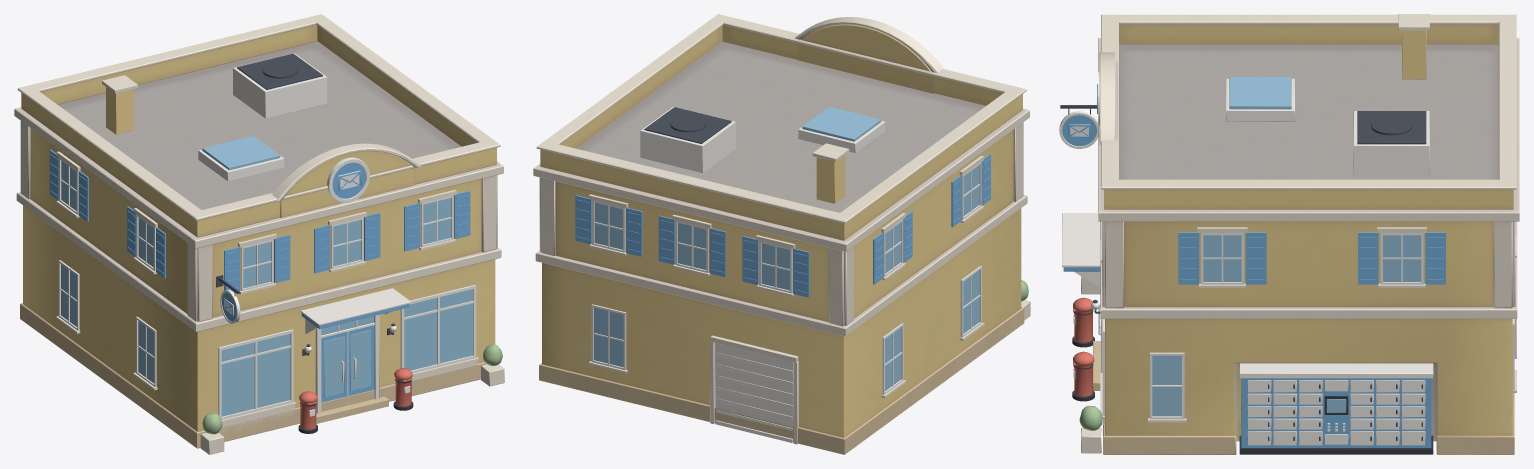
File: post-office-grab3d.glb
The picture shows the model from 3 angles, left to right: view 1: azimuth 30°, elevation 25°; view 2: azimuth 150°, elevation 25°; view 3: azimuth 270°, elevation 25°; orthographic projection. The views are drawn at different scales.
Visible parts, largest first — view 1: post-office_body, post-office_windows, post-office_details, post-office_postboxes, post-office_planters, post-office_shrubs; view 2: post-office_body, post-office_windows, post-office_details; view 3: post-office_body, post-office_details, post-office_windows, post-office_postboxes, post-office_planters, post-office_shrubs.
Boxes of the visible parts, x1=… form: post-office_body: x1=14, y1=14, x2=503, y2=448; post-office_windows: x1=49, y1=149, x2=478, y2=435; post-office_details: x1=102, y1=53, x2=411, y2=423; post-office_postboxes: x1=298, y1=368, x2=413, y2=433; post-office_planters: x1=200, y1=364, x2=504, y2=454; post-office_shrubs: x1=202, y1=344, x2=502, y2=434; post-office_body: x1=533, y1=14, x2=1029, y2=454; post-office_windows: x1=575, y1=154, x2=990, y2=397; post-office_details: x1=640, y1=106, x2=885, y2=444; post-office_body: x1=1098, y1=14, x2=1519, y2=454; post-office_details: x1=1059, y1=14, x2=1516, y2=454; post-office_windows: x1=1100, y1=227, x2=1516, y2=424; post-office_postboxes: x1=1072, y1=297, x2=1094, y2=401; post-office_planters: x1=1081, y1=276, x2=1101, y2=453; post-office_shrubs: x1=1079, y1=405, x2=1102, y2=430.
Size of the model in its own units: 12 by 9.75 by 13.32.
Materials: 11 (1 with a texture image).
